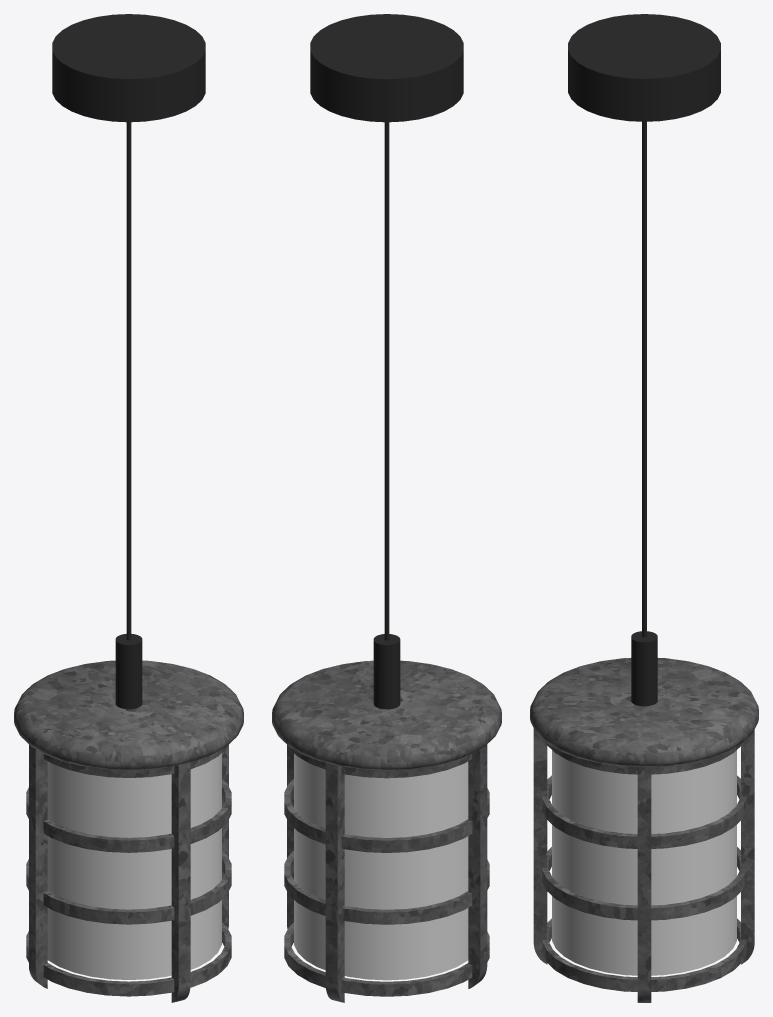
Rendered from Ceiling Lamp 21.FBX.
3 renders of one model, left to right at view 1: azimuth 30°, elevation 25°; view 2: azimuth 150°, elevation 25°; view 3: azimuth 270°, elevation 25°, orthographic.
Visible parts, largest first — view 1: ceiling lamp 21; view 2: ceiling lamp 21; view 3: ceiling lamp 21.
Boxes of the visible parts, x1,y1,x2,y2 form: ceiling lamp 21: [14, 14, 243, 1002]; ceiling lamp 21: [272, 14, 501, 1002]; ceiling lamp 21: [530, 14, 758, 1002].
Size of the model in its own units: 21.45 by 94.19 by 21.33.
Materials: 3 (2 with a texture image).
